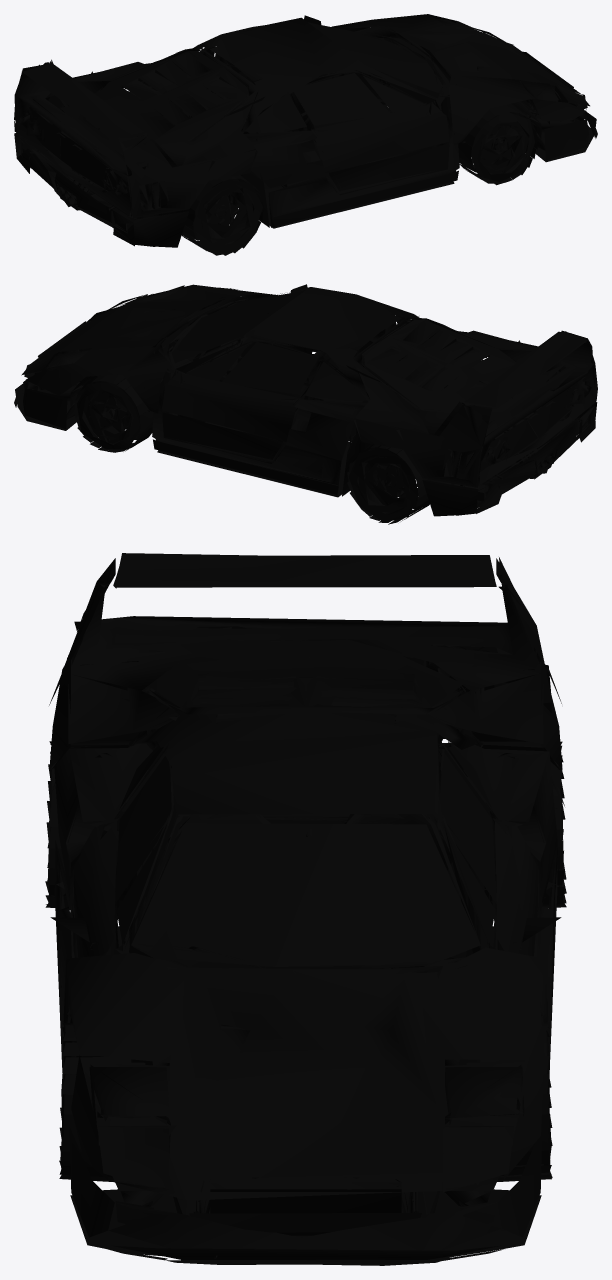
3 renders of one model, top to bottom at view 1: azimuth 30°, elevation 25°; view 2: azimuth 150°, elevation 25°; view 3: azimuth 270°, elevation 25°, orthographic. The views are drawn at different scales.
Parts seen in each view (by area): view 1: v_f40_lod1; view 2: v_f40_lod1; view 3: v_f40_lod1.
Part boxes in pixels (x1,y1,x2,y2): v_f40_lod1: [14, 14, 597, 255]; v_f40_lod1: [14, 284, 597, 524]; v_f40_lod1: [45, 553, 566, 1265].
Bounding box in the file's own units: 4.39 × 1.09 × 1.98.
1 material, 1 textured.
